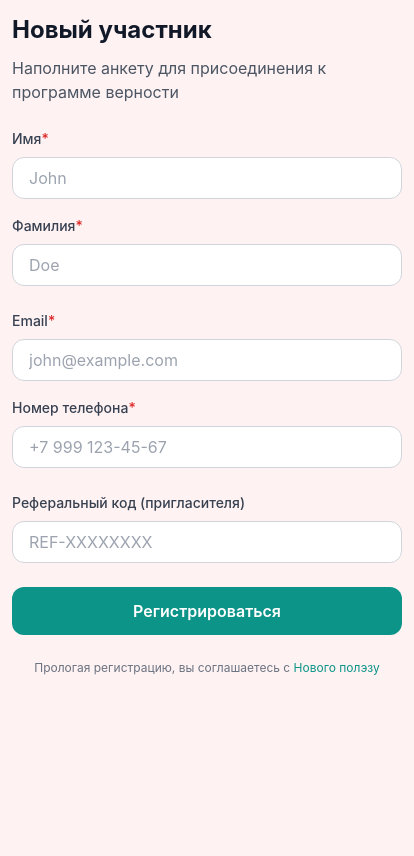
it: GuestRegistrationForm Component › should show validation error for invalid email
Type "invalid-email" into the field with placeholder "john@example.com" at (207, 360), box top-left (12, 339), bottom-right (402, 381)
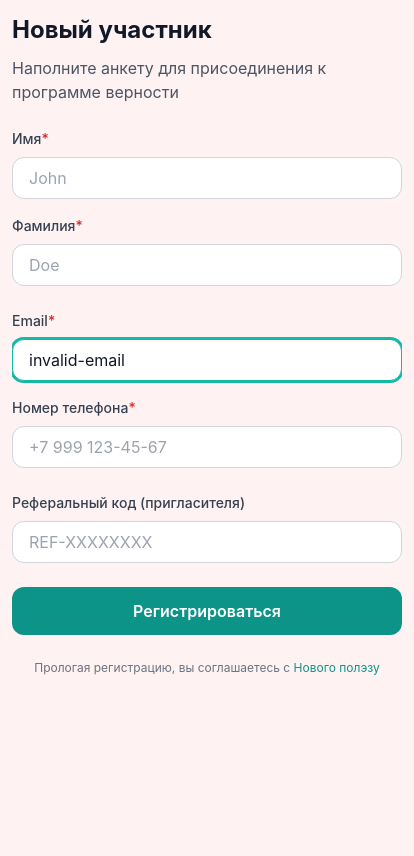
Click the button "Регистрироваться" at (207, 611), box top-left (12, 587), bottom-right (402, 635)
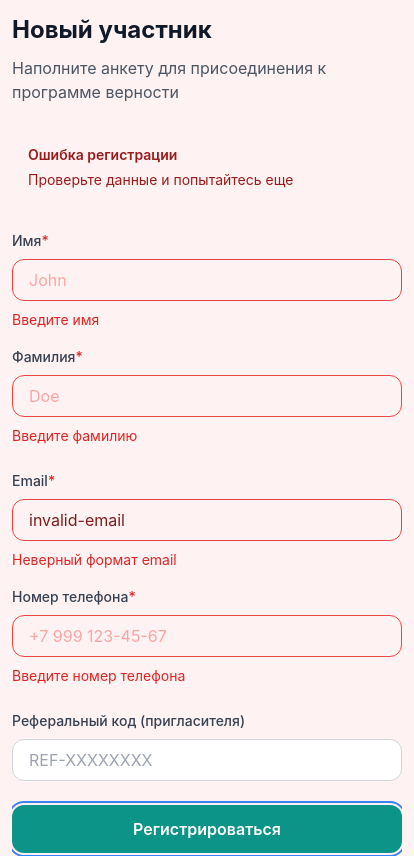
Expected: the text "Неверный формат email" is shown, top-left (12, 551), bottom-right (177, 568)
